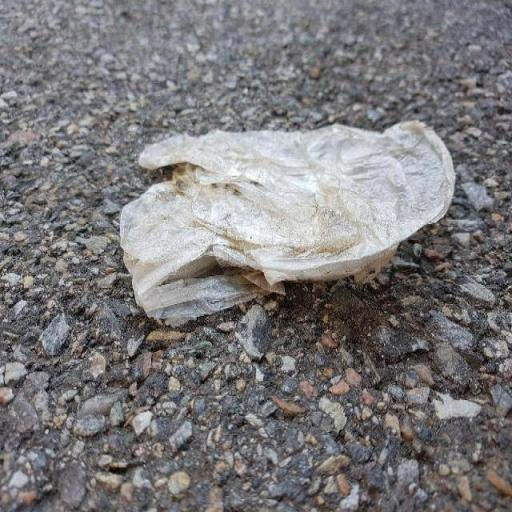plastic-bag: (118, 117, 460, 323)
